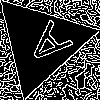A: (16, 18, 74, 75)
